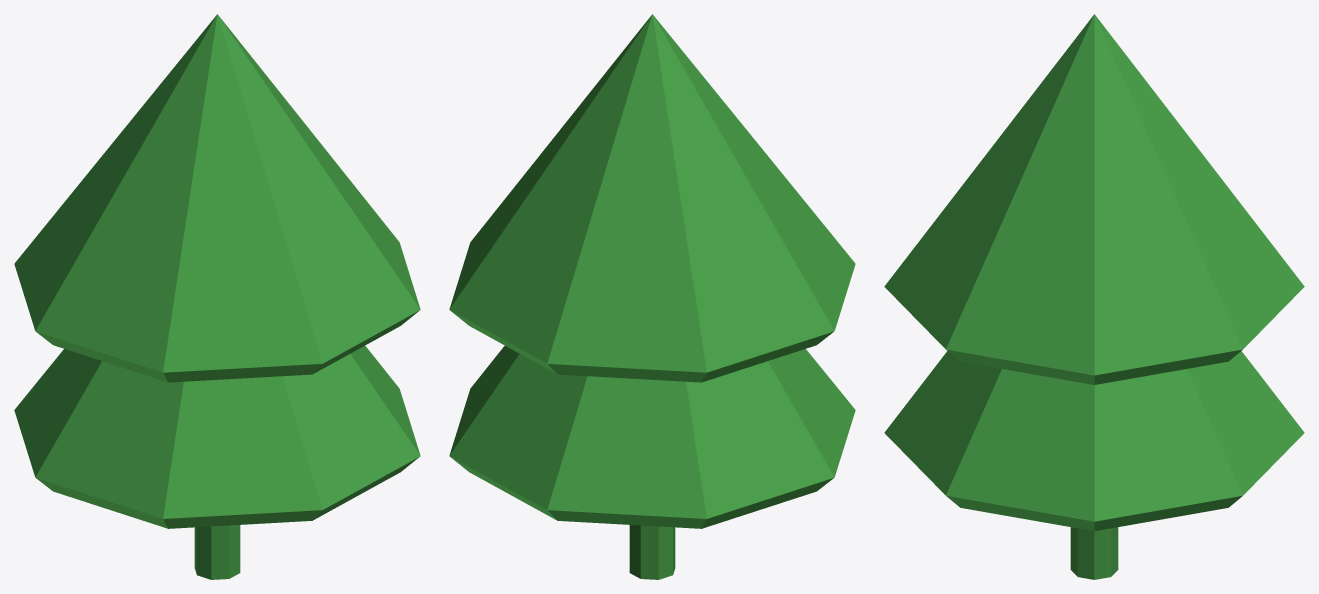
The model's file is asset_smallbush_01.fbx.
3 views of the same model, side by side, from view 1: azimuth 30°, elevation 25°; view 2: azimuth 150°, elevation 25°; view 3: azimuth 270°, elevation 25° (orthographic).
Parts seen in each view (by area): view 1: pCone19, pCone18, pCylinder1; view 2: pCone19, pCone18, pCylinder1; view 3: pCone19, pCone18, pCylinder1.
Boxes of the visible parts, x1,y1,x2,y2 form: pCone19: [14, 14, 420, 382]; pCone18: [14, 346, 420, 528]; pCylinder1: [194, 525, 240, 579]; pCone19: [449, 14, 855, 382]; pCone18: [449, 346, 855, 528]; pCylinder1: [629, 525, 675, 579]; pCone19: [884, 14, 1304, 384]; pCone18: [884, 351, 1304, 531]; pCylinder1: [1070, 527, 1118, 579].
Bounding box in the file's own units: 41.84 × 61.05 × 41.84.
